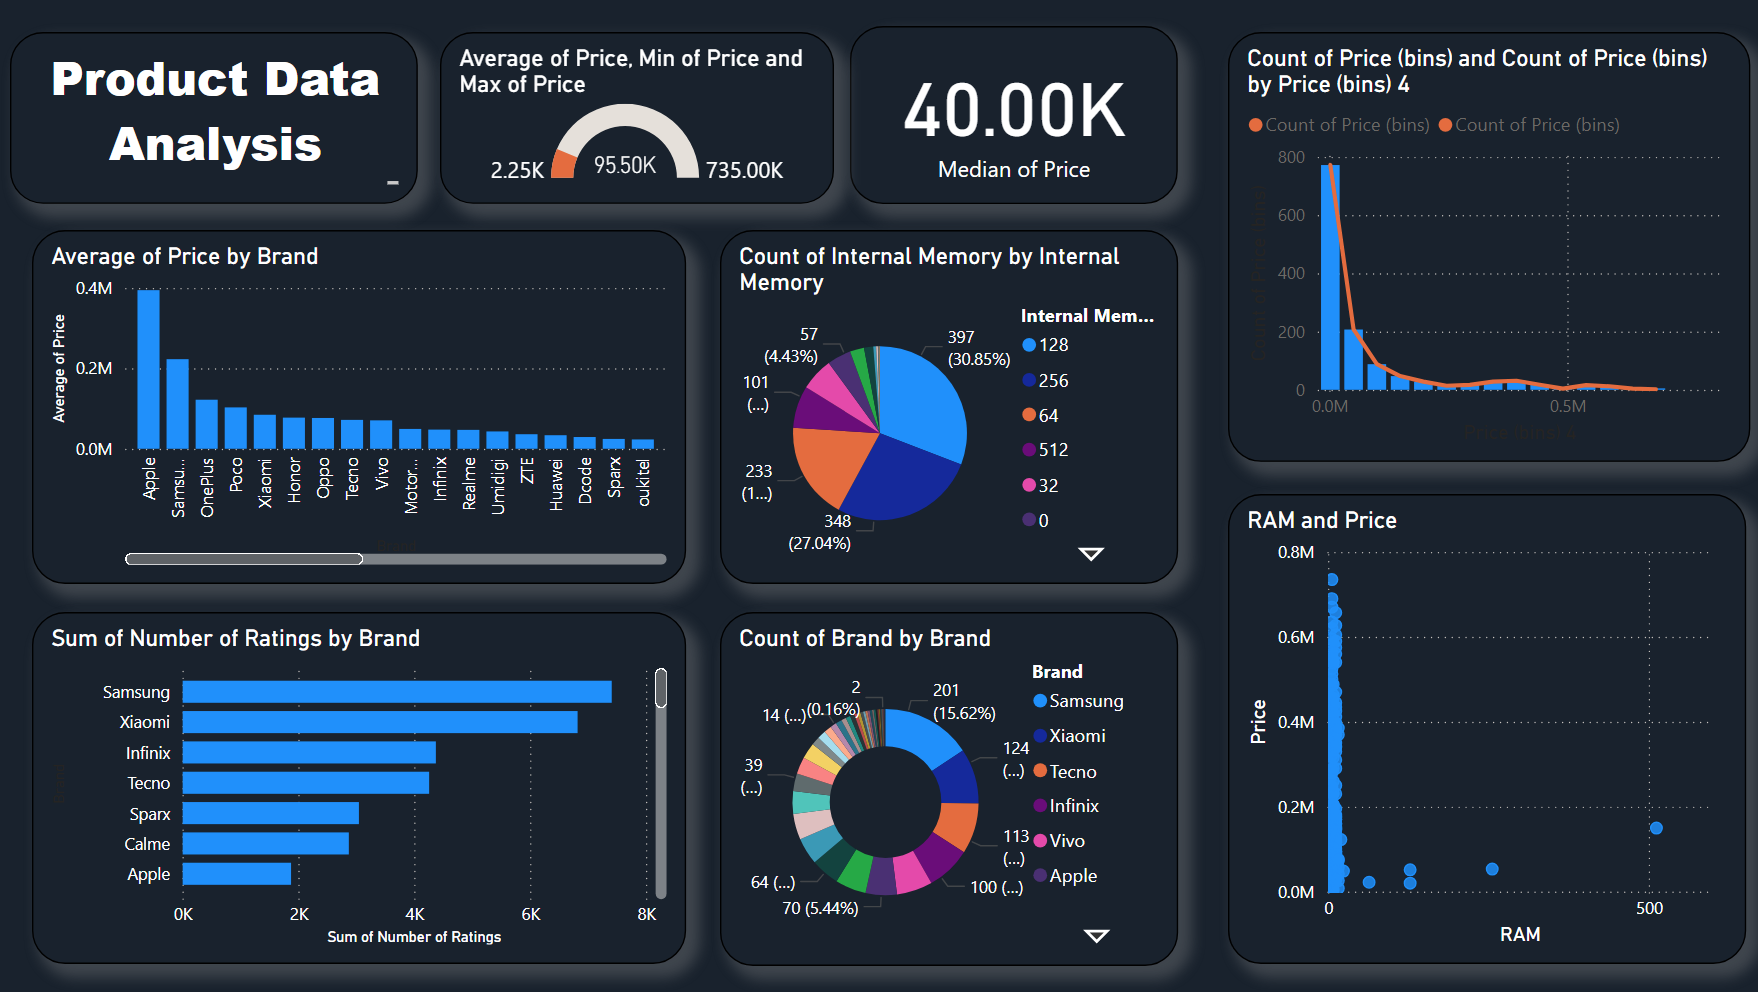

What the dashboard file says about the page in this screenshot:
{"tool":"powerbi","page":{"name":"Page 1","canvas":[1280,720],"ordinal":0},"visuals":[{"type":"clusteredBarChart","fields":{"Category":["Processed_data.Brand"],"Y":["Sum(Processed_data.Number of Ratings)"]},"box":[26.1,444.9,473.9,255.1],"z":0},{"type":"clusteredColumnChart","fields":{"Category":["Processed_data.Brand"],"Y":["Avg(Processed_data.Price)"]},"box":[26.1,168.1,473.9,256.5],"z":1000},{"type":"scatterChart","fields":{"X":["Processed_data.RAM"],"Y":["Processed_data.Price"]},"box":[892.8,359.4,375.4,340.6],"z":2000},{"type":"pieChart","fields":{"Category":["Processed_data.Internal Memory"],"Y":["CountNonNull(Processed_data.Internal Memory)"]},"box":[524.6,168.1,331.9,256.5],"z":3000},{"type":"donutChart","fields":{"Category":["Processed_data.Brand"],"Y":["CountNonNull(Processed_data.Brand)"]},"box":[524.6,444.9,331.9,256.5],"z":4000},{"type":"lineClusteredColumnComboChart","fields":{"Y2":["CountNonNull(Processed_data.Price (bins))"],"Y":["CountNonNull(Processed_data.Price (bins))"],"Category":["Processed_data.Price (bins) 4"]},"box":[892.8,24.6,378.3,311.6],"z":5000},{"type":"card","fields":{"Values":["Median(Processed_data.Price)"]},"box":[618.8,20.3,237.7,129],"z":6000},{"type":"textbox","title":"Product Data Analysis","box":[10.1,24.6,295.7,124.6],"z":7000},{"type":"gauge","fields":{"Y":["Avg(Processed_data.Price)"],"MinValue":["Min(Processed_data.Price)"],"MaxValue":["Max(Processed_data.Price)"]},"box":[321.7,24.6,285.5,124.6],"z":8000}]}

Visuals, with their boxes in screenshot pixels (x1, y1, x2, y2), scaled from the page's 1280x720 canvas onto the 1758x992 screenshot:
clusteredBarChart - Processed_data.Brand x Sum(Processed_data.Number of Ratings): select_region(36, 613, 687, 964)
clusteredColumnChart - Processed_data.Brand x Avg(Processed_data.Price): select_region(36, 232, 687, 585)
scatterChart - Processed_data.RAM x Processed_data.Price: select_region(1226, 495, 1742, 964)
pieChart - Processed_data.Internal Memory x CountNonNull(Processed_data.Internal Memory): select_region(721, 232, 1176, 585)
donutChart - Processed_data.Brand x CountNonNull(Processed_data.Brand): select_region(721, 613, 1176, 966)
lineClusteredColumnComboChart - CountNonNull(Processed_data.Price (bins)) x CountNonNull(Processed_data.Price (bins)): select_region(1226, 34, 1746, 463)
card - Median(Processed_data.Price): select_region(850, 28, 1176, 206)
"Product Data Analysis" textbox: select_region(14, 34, 420, 206)
gauge - Avg(Processed_data.Price) x Min(Processed_data.Price): select_region(442, 34, 834, 206)
